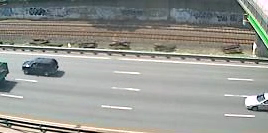car: (19, 55, 63, 80), (242, 90, 268, 113)
